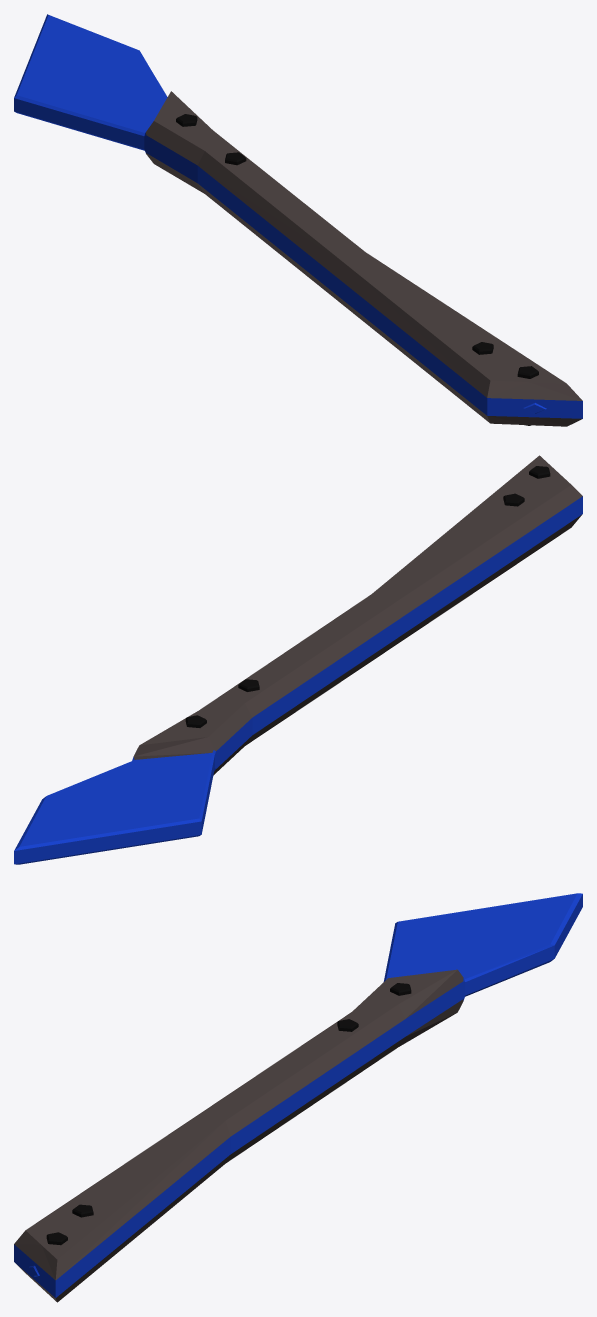
File: ENV_Object_SculptingKnife_01.fbx
The picture shows the model from 3 angles, top to bottom: view 1: azimuth 30°, elevation 25°; view 2: azimuth 150°, elevation 25°; view 3: azimuth 330°, elevation 25°; orthographic projection.
Parts seen in each view (by area): view 1: ENV_Object_SculptingKnife_01; view 2: ENV_Object_SculptingKnife_01; view 3: ENV_Object_SculptingKnife_01.
Part boxes in pixels (x1,y1,x2,y2): ENV_Object_SculptingKnife_01: (14, 14, 582, 426); ENV_Object_SculptingKnife_01: (14, 455, 582, 864); ENV_Object_SculptingKnife_01: (14, 893, 582, 1302).
Bounding box in the file's own units: 34.66 × 12.09 × 224.
